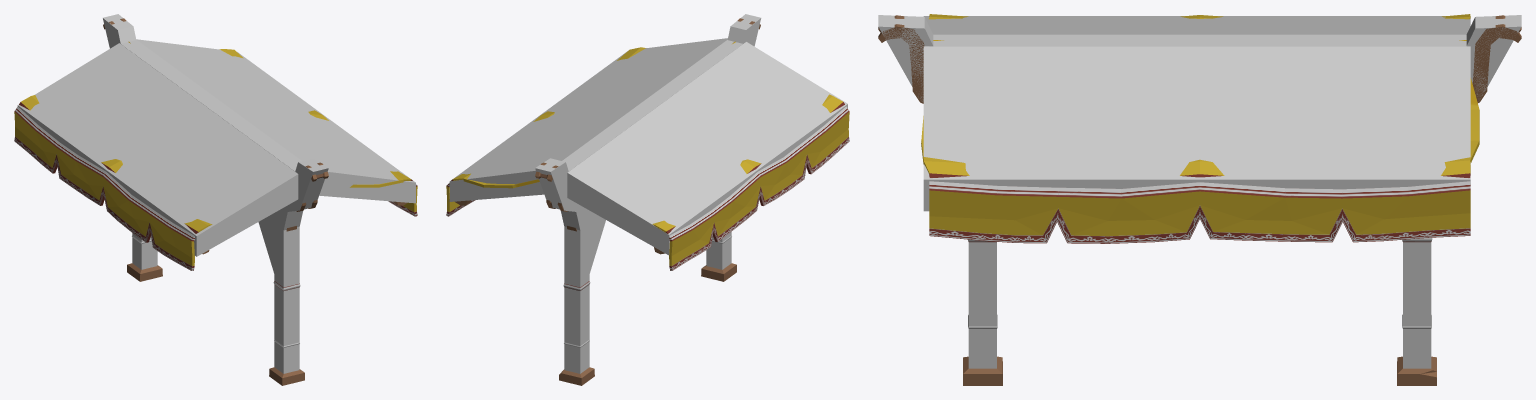
The model's file is SM_Prop_Tent_02.fbx.
3 views of the same model, side by side, from view 1: azimuth 30°, elevation 25°; view 2: azimuth 150°, elevation 25°; view 3: azimuth 270°, elevation 25° (orthographic). The views are drawn at different scales.
Parts seen in each view (by area): view 1: SM_Prop_Tent_02_ConvexHulls, SM_Prop_Tent_02; view 2: SM_Prop_Tent_02_ConvexHulls, SM_Prop_Tent_02; view 3: SM_Prop_Tent_02_ConvexHulls, SM_Prop_Tent_02.
Part boxes in pixels (x1=…): SM_Prop_Tent_02_ConvexHulls: x1=17, y1=14, x2=415, y2=373; SM_Prop_Tent_02: x1=14, y1=18, x2=417, y2=385; SM_Prop_Tent_02_ConvexHulls: x1=449, y1=14, x2=847, y2=373; SM_Prop_Tent_02: x1=446, y1=18, x2=849, y2=385; SM_Prop_Tent_02_ConvexHulls: x1=878, y1=15, x2=1521, y2=368; SM_Prop_Tent_02: x1=878, y1=14, x2=1521, y2=385.
Bounding box in the file's own units: 353 × 569 × 348.
2 materials, 1 textured.
